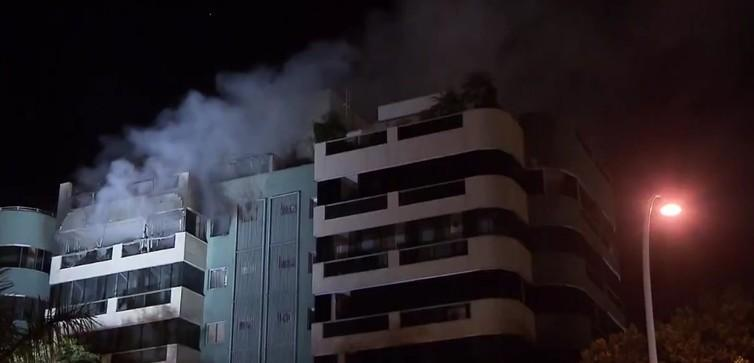smoke: (191, 104, 291, 165)
